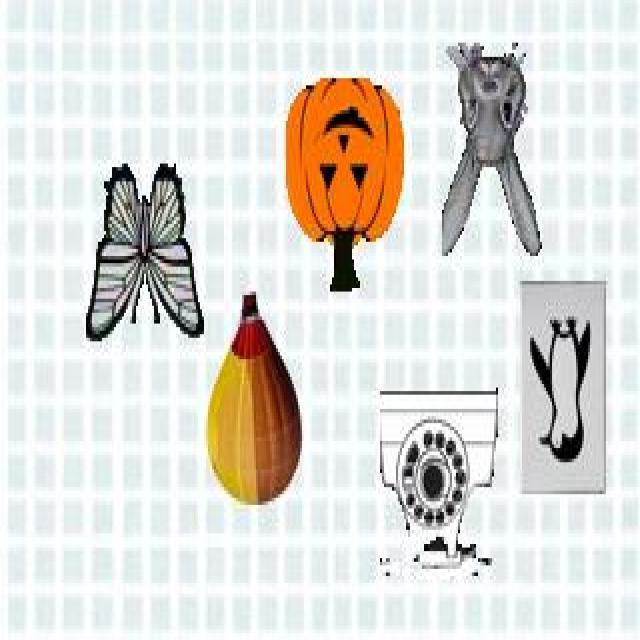Other Objects: (376, 387, 498, 587), (84, 161, 204, 344), (206, 292, 302, 506)
